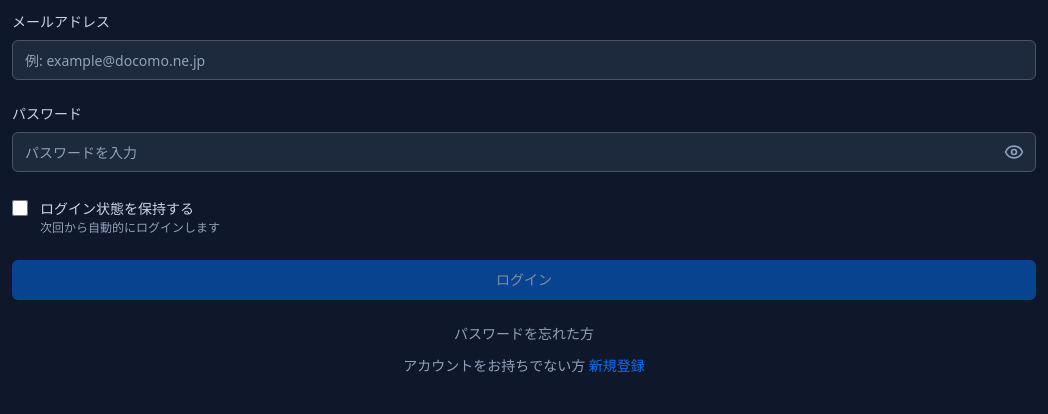
Test case: LoginForm › バリデーション › LoginForm_WithEmptyPassword_ShouldShowPasswordError
// 入力してから削除してバリデーションをトリガー
In the password field labelled "パスワード": (524, 152) [12,132,1036,172], type "a"
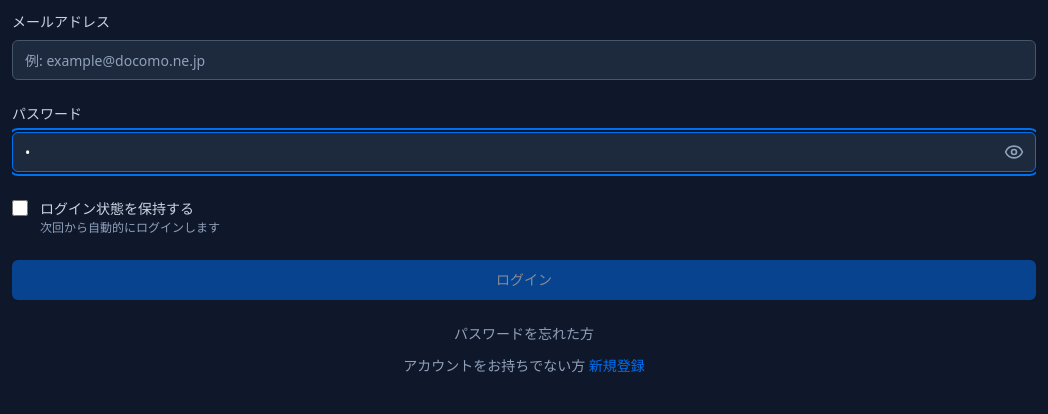
Clear the password field labelled "パスワード": (524, 152) [12,132,1036,172]
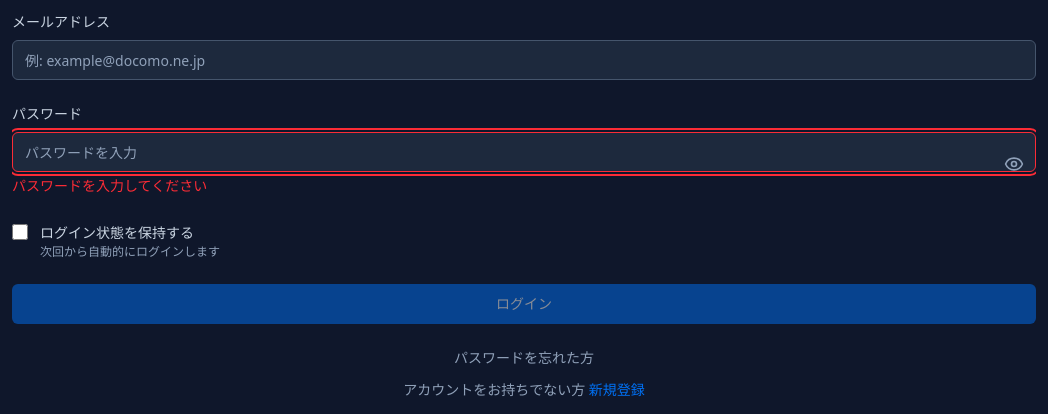
Check: the text "パスワードを入力してください" is shown, box [12,176,207,195]
